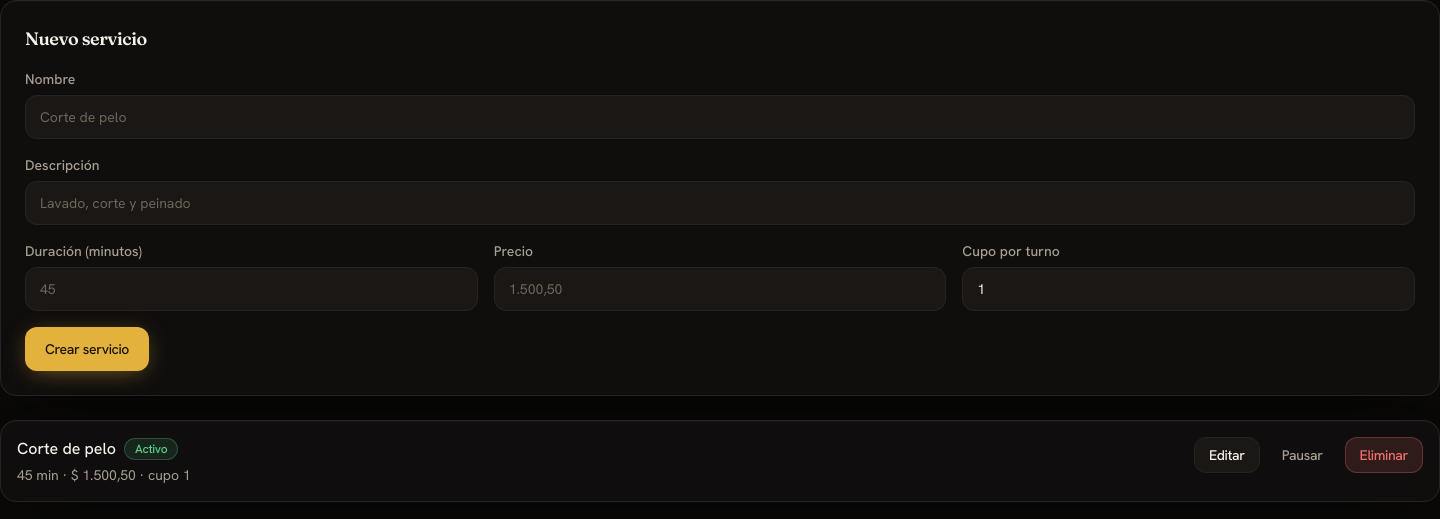
Test: ServicesManager › goes back to the create form when the edit is cancelled
The image size is (1440, 519).
Step 1. Click the button "Editar" → [1227, 455], box top-left (1194, 437), bottom-right (1260, 473)
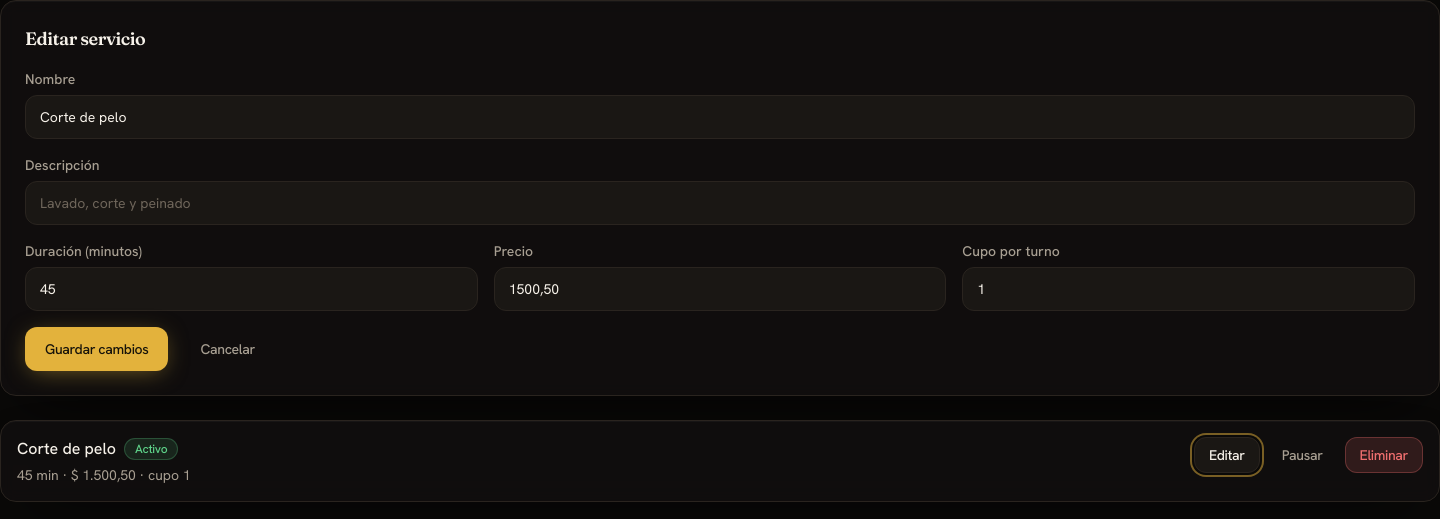
Step 2. Click the button "Cancelar" → [228, 349], box top-left (180, 327), bottom-right (275, 371)
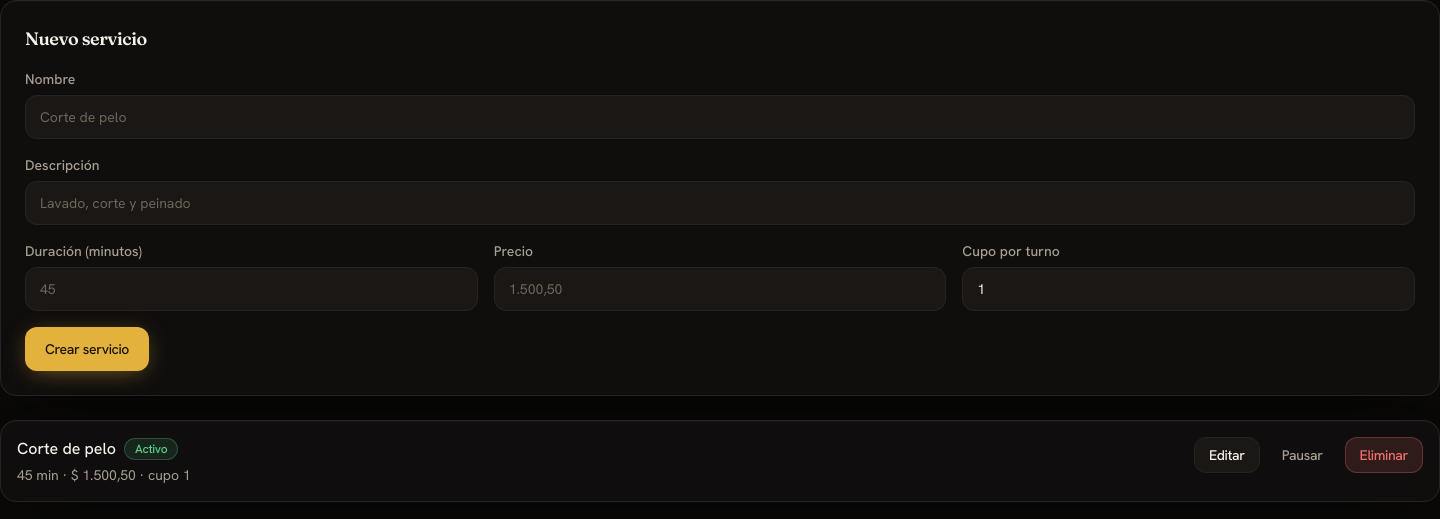
Expected: the heading "Nuevo servicio" is shown, top-left (25, 27), bottom-right (147, 50)
Expected: the field labelled "Nombre" is empty, top-left (25, 95), bottom-right (1415, 139)
